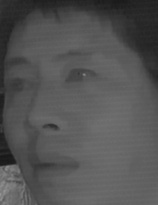eye: (63, 65, 99, 86), (4, 76, 34, 95)
mouth: (25, 149, 80, 181)
